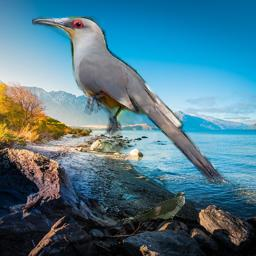Cuckoo: (32, 15, 228, 188), (114, 191, 185, 223)
